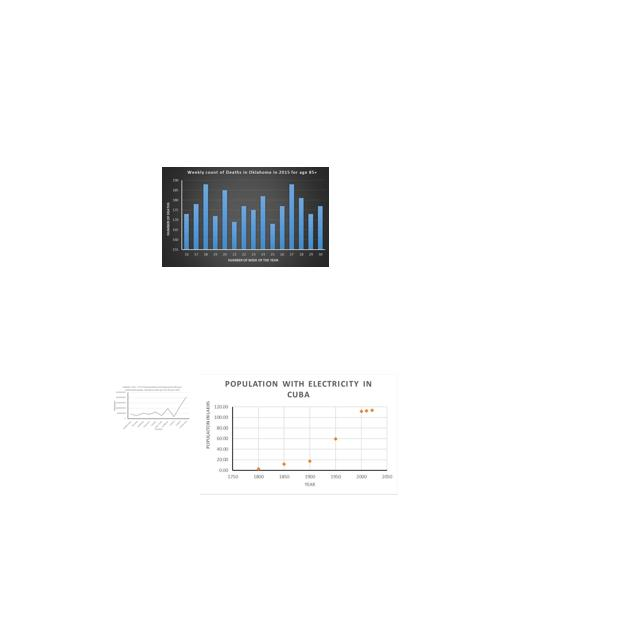Graph: (200, 374, 398, 495), (162, 167, 329, 267), (113, 385, 191, 431)
